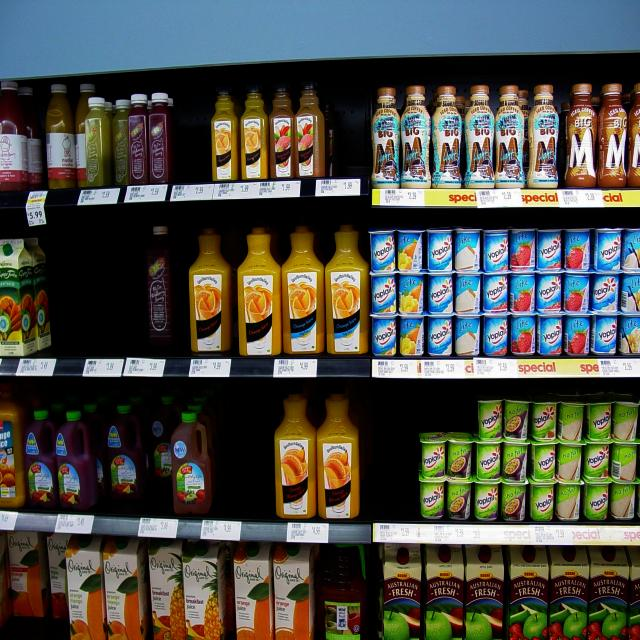empty_space: (50, 220, 150, 360), (360, 394, 420, 515), (222, 388, 278, 515), (171, 78, 213, 182), (329, 82, 371, 178), (424, 389, 476, 432), (4, 613, 68, 639)
